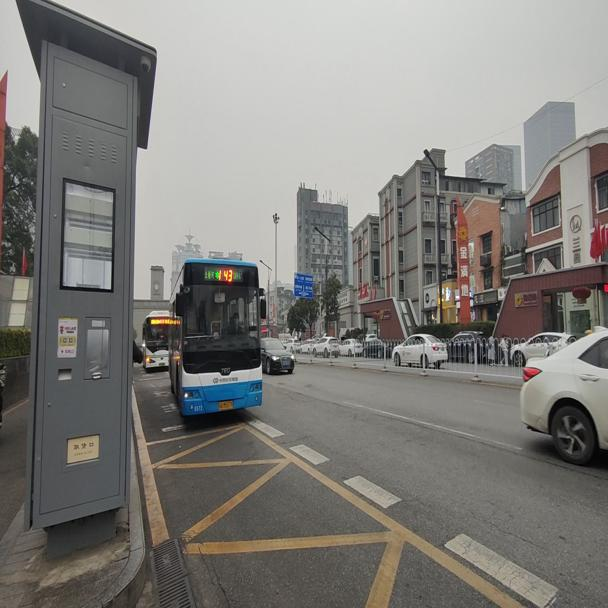bus: (166, 259, 267, 427), (141, 307, 169, 369)
screen: (216, 268, 233, 284)
